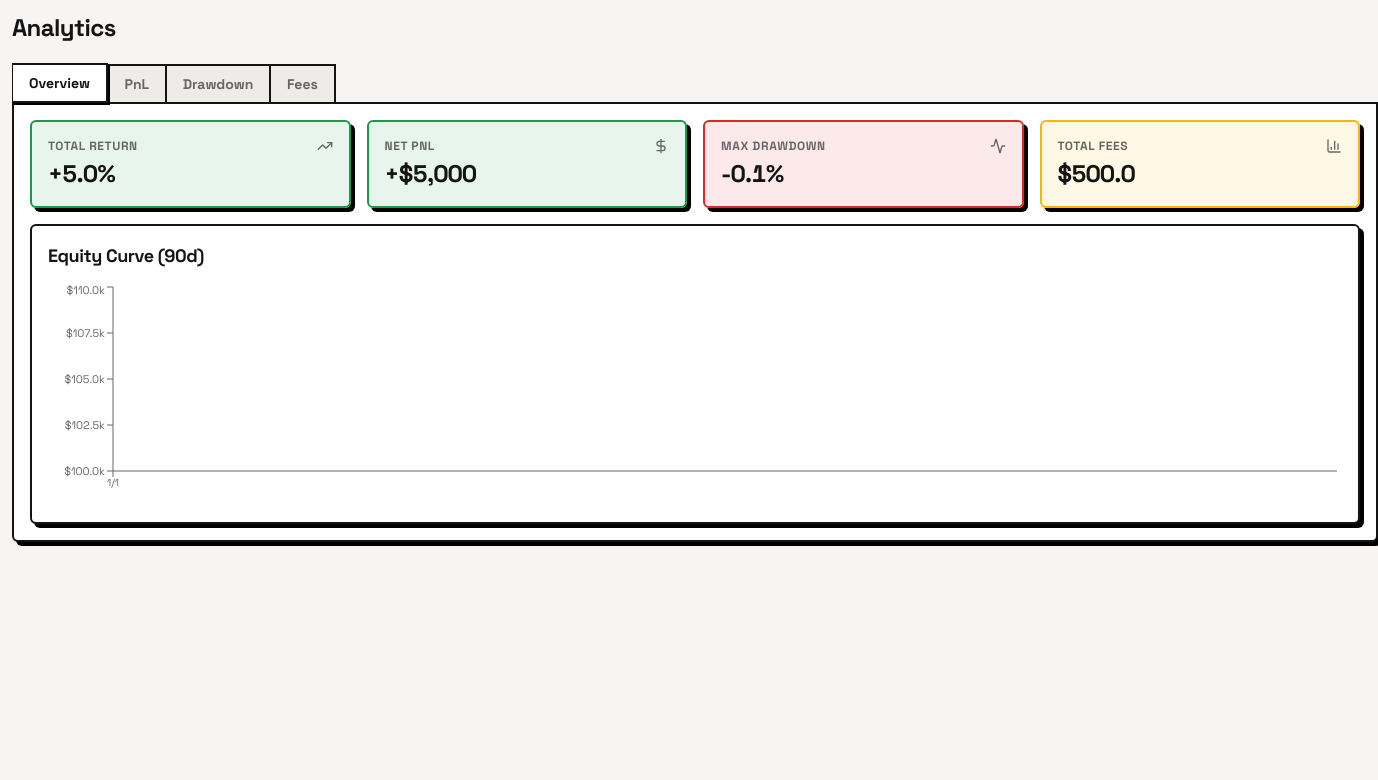
AnalyticsPage › PnL Tab › shows error state in PnL tab
Click the button "PnL" at (137, 84), box [106,64,167,104]
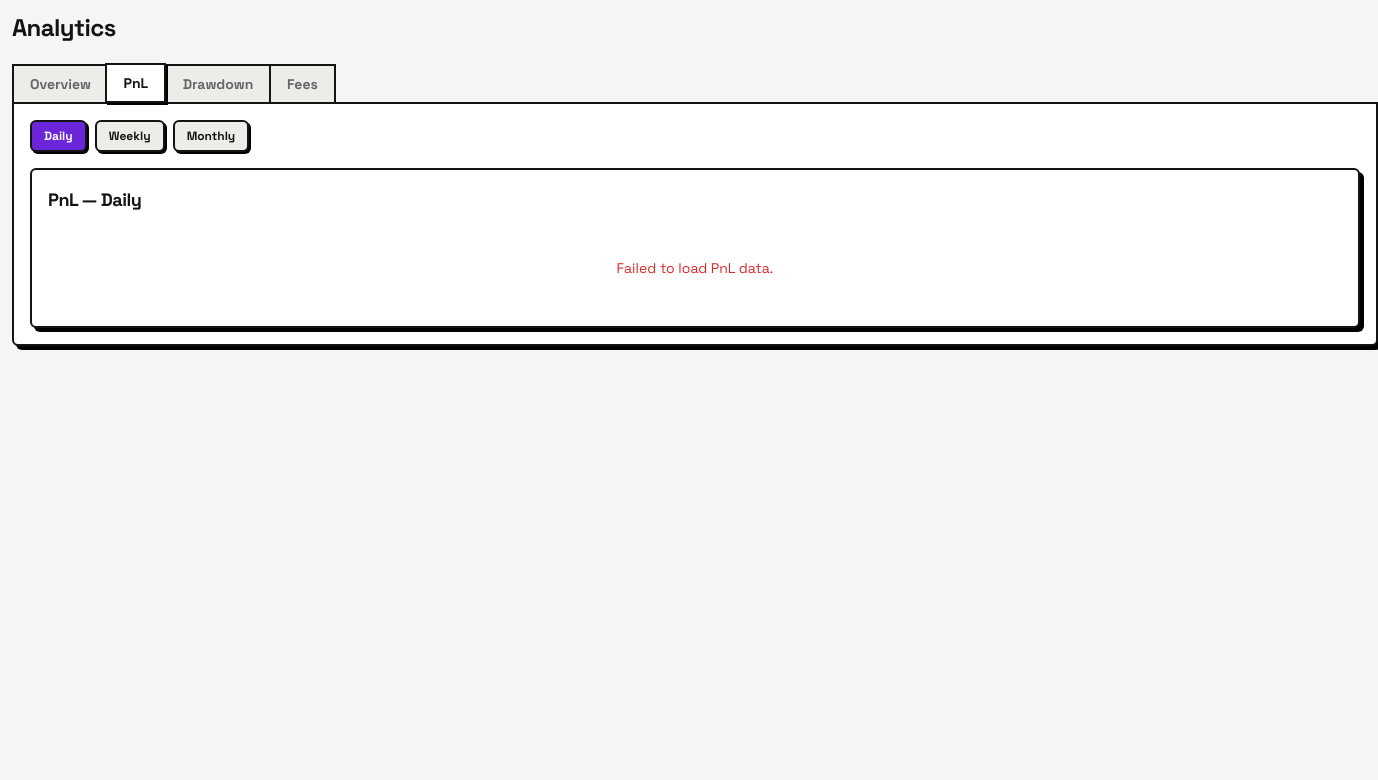
Check: the text "Failed to load PnL data." is shown, box [617,258,773,276]
